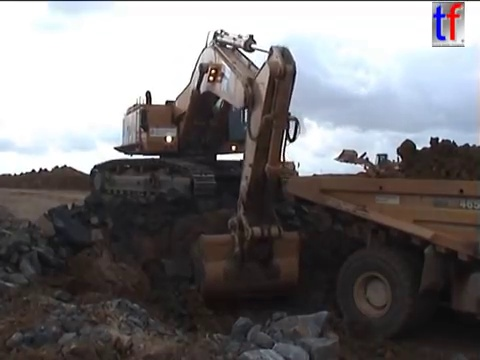excavator: (86, 26, 304, 302)
truck: (282, 171, 480, 345)
wheel loader: (331, 147, 410, 190)
